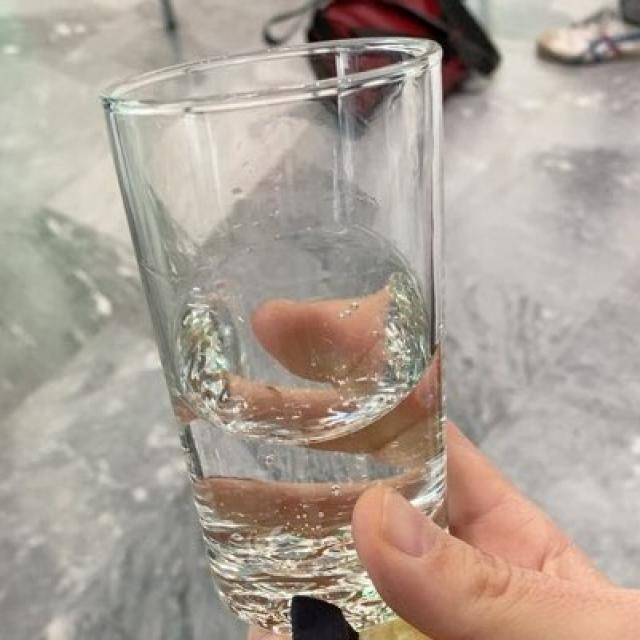water: (154, 227, 436, 607)
